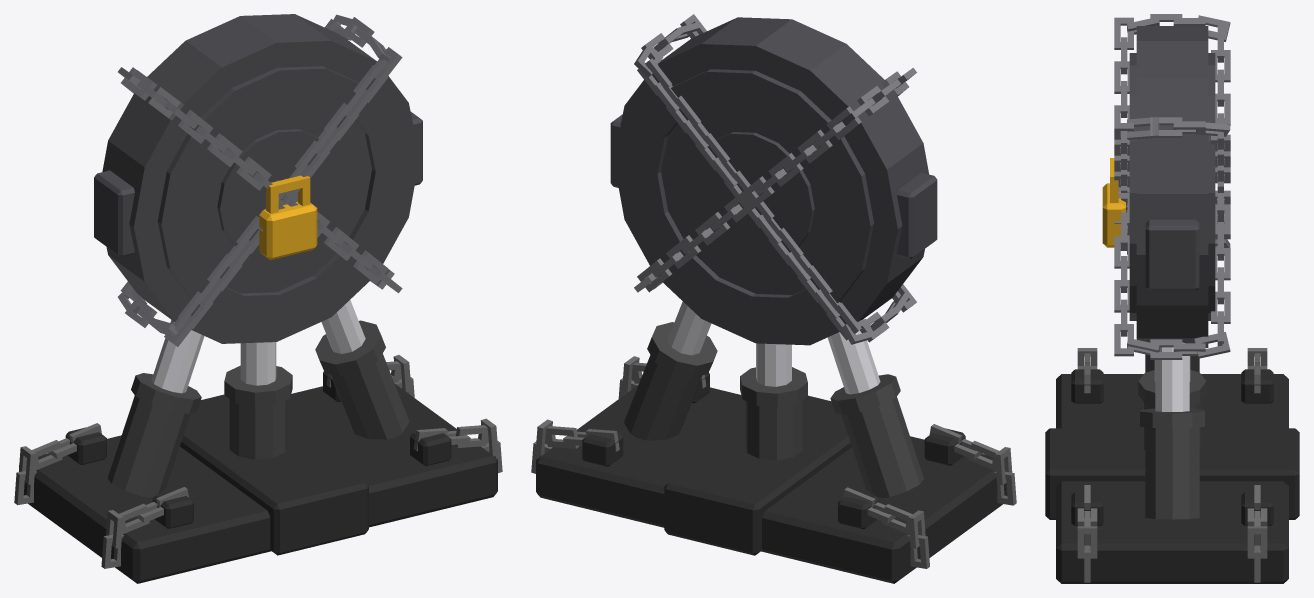
Rendered from TrainingVault.fbx.
The picture shows the model from 3 angles, left to right: view 1: azimuth 30°, elevation 25°; view 2: azimuth 150°, elevation 25°; view 3: azimuth 270°, elevation 25°; orthographic projection. The views are drawn at different scales.
Parts seen in each view (by area): view 1: VaultDoor, VaultStand_Base, VaultStand_Pistons, VaultDoor_Chains, VaultStand_Chains, VaultStand_Rods, VaultDoor_Lock; view 2: VaultDoor, VaultStand_Base, VaultStand_Pistons, VaultDoor_Chains, VaultStand_Chains, VaultStand_Rods; view 3: VaultStand_Base, VaultDoor, VaultDoor_Chains, VaultStand_Pistons, VaultStand_Chains, VaultStand_Rods, VaultDoor_Lock.
Part boxes in pixels (x1=…): VaultDoor: x1=94, y1=14, x2=422, y2=343; VaultStand_Base: x1=19, y1=371, x2=497, y2=583; VaultStand_Pistons: x1=107, y1=320, x2=409, y2=497; VaultDoor_Chains: x1=118, y1=14, x2=402, y2=346; VaultStand_Chains: x1=14, y1=355, x2=502, y2=568; VaultStand_Rods: x1=151, y1=300, x2=365, y2=393; VaultDoor_Lock: x1=259, y1=175, x2=317, y2=260; VaultDoor: x1=610, y1=17, x2=937, y2=345; VaultStand_Base: x1=536, y1=372, x2=1007, y2=583; VaultStand_Pistons: x1=624, y1=322, x2=923, y2=497; VaultDoor_Chains: x1=634, y1=14, x2=916, y2=344; VaultStand_Chains: x1=531, y1=356, x2=1016, y2=568; VaultStand_Rods: x1=667, y1=301, x2=880, y2=394; VaultStand_Base: x1=1045, y1=369, x2=1299, y2=583; VaultDoor: x1=1129, y1=26, x2=1215, y2=347; VaultDoor_Chains: x1=1114, y1=14, x2=1230, y2=359; VaultStand_Pistons: x1=1138, y1=354, x2=1206, y2=519; VaultStand_Chains: x1=1077, y1=348, x2=1267, y2=582; VaultStand_Rods: x1=1154, y1=342, x2=1190, y2=411; VaultDoor_Lock: x1=1102, y1=158, x2=1125, y2=247.
Size of the model in its own units: 5.01 by 5.65 by 2.84.
